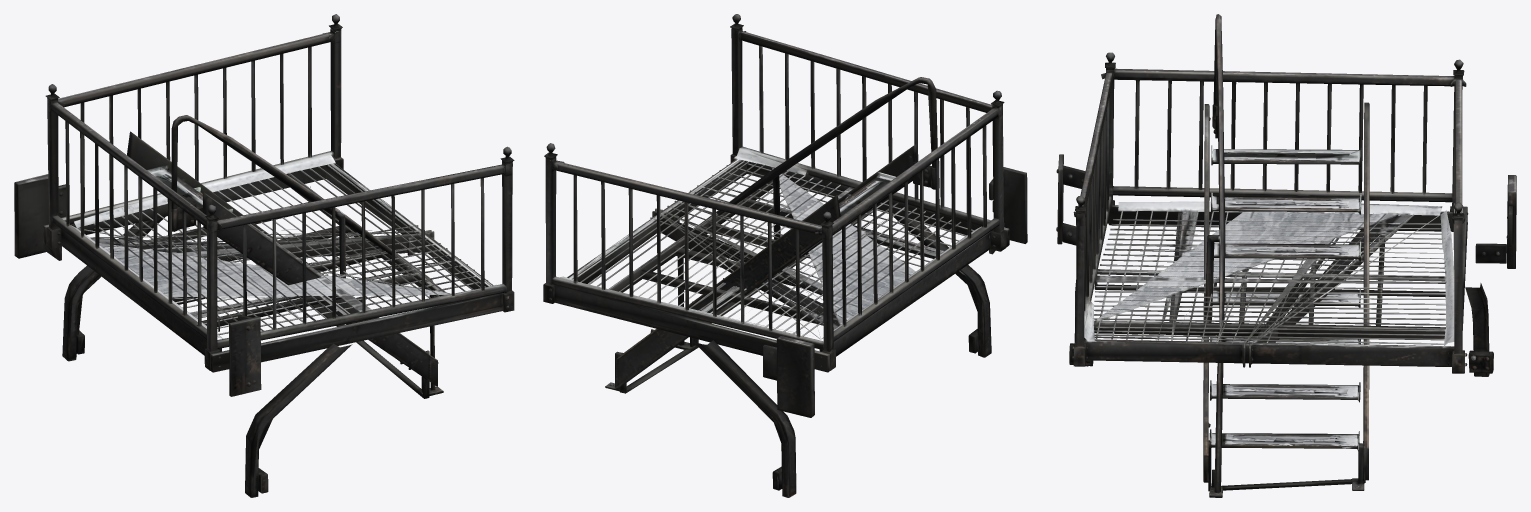
Rendered from fire-escape-4k.glb.
3 renders of one model, left to right at view 1: azimuth 30°, elevation 25°; view 2: azimuth 150°, elevation 25°; view 3: azimuth 270°, elevation 25°, orthographic. The views are drawn at different scales.
Visible parts, largest first — view 1: fe-platform, fe-stair; view 2: fe-platform, fe-stair; view 3: fe-platform, fe-stair.
Boxes of the visible parts, x1,y1,x2,y2 form: fe-platform: [14, 14, 514, 497]; fe-stair: [127, 115, 443, 398]; fe-platform: [543, 14, 1027, 497]; fe-stair: [605, 77, 939, 393]; fe-platform: [1056, 52, 1516, 376]; fe-stair: [1203, 14, 1369, 497].
Bounding box in the file's own units: 0.5977 × 0.6402 × 0.7583.
Materials: 1 (1 with a texture image).
